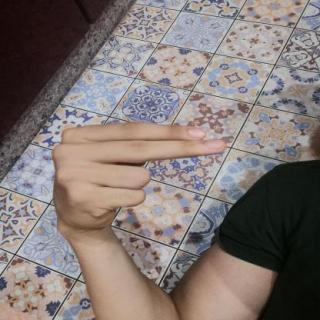AYN: (32, 115, 240, 241)
